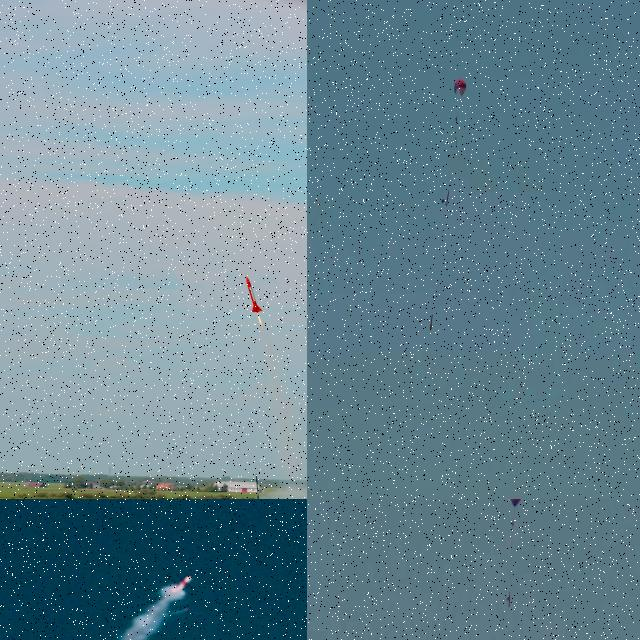Rocket: (245, 276, 263, 313), (172, 574, 194, 592), (429, 313, 433, 331)
